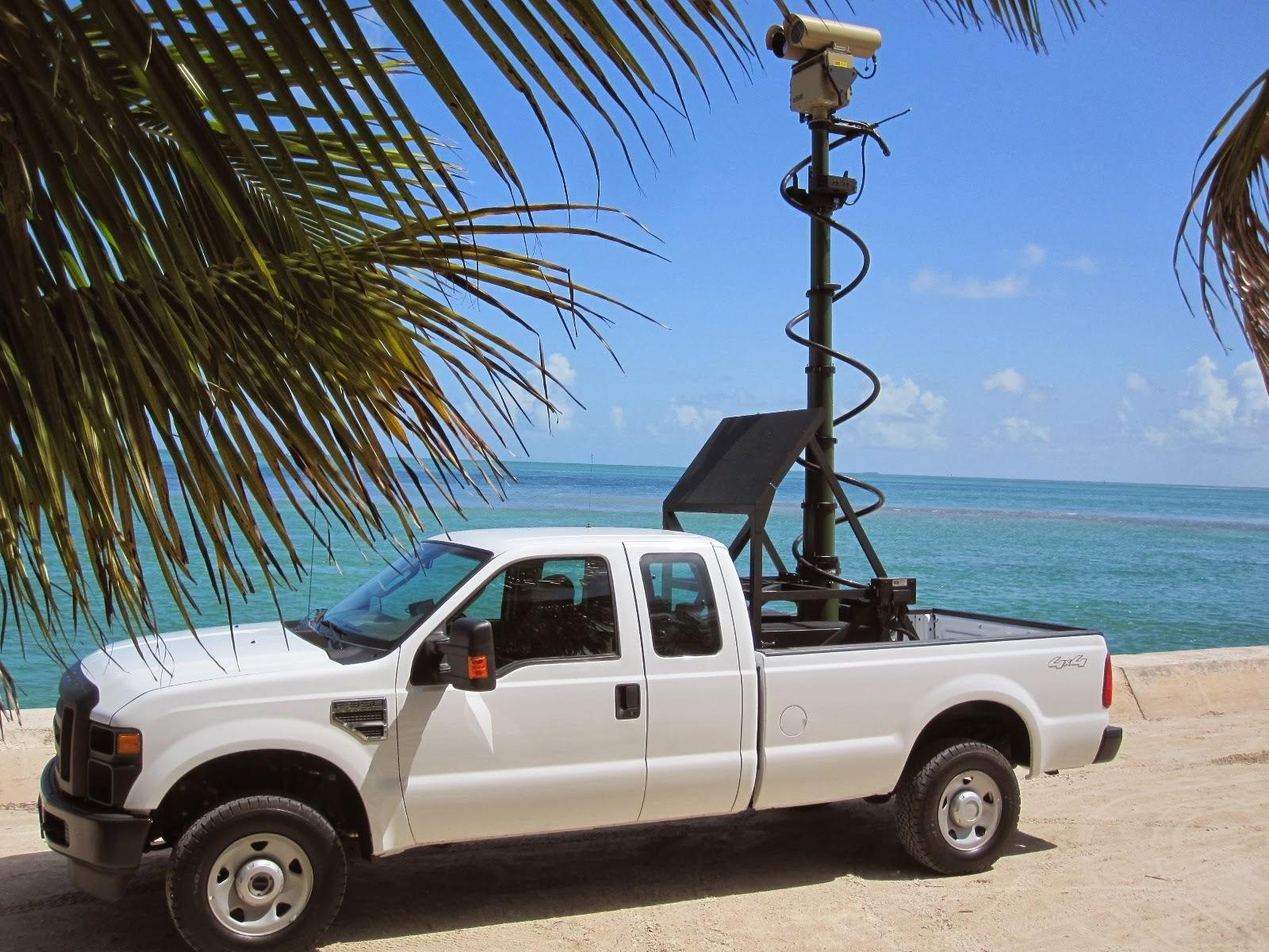Monitor: (741, 9, 938, 138)
